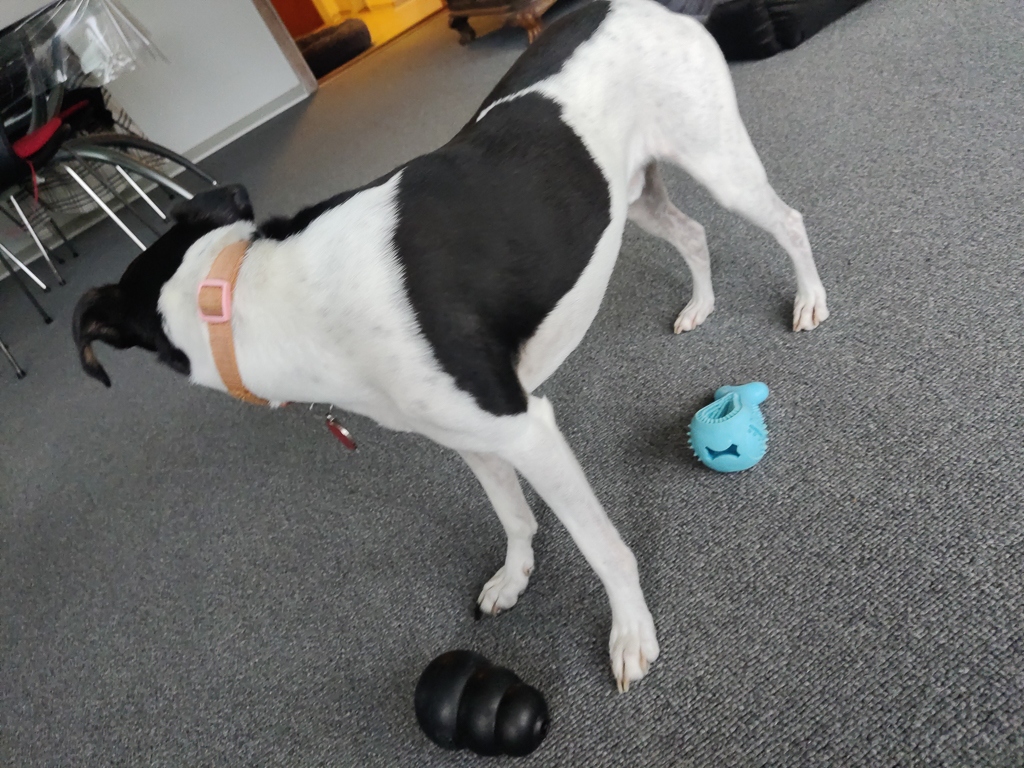Dog: (59, 0, 844, 704)
